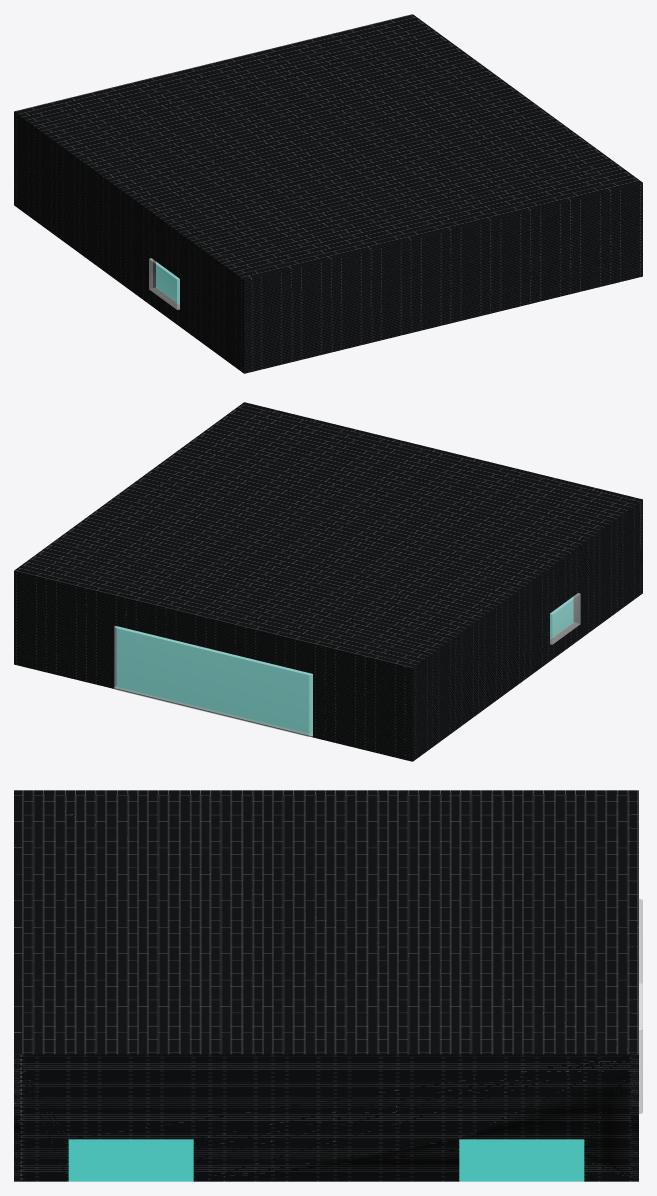
Rendered from OfficeRoomIMPROVED.fbx.
The picture shows the model from 3 angles, top to bottom: view 1: azimuth 30°, elevation 25°; view 2: azimuth 150°, elevation 25°; view 3: azimuth 270°, elevation 25°; orthographic projection. The views are drawn at different scales.
Parts seen in each view (by area): view 1: Wall, Window.001, Floor; view 2: Wall, Window, Floor, LogoGround, Window.001; view 3: Wall, Floor, Window, LogoGround.
Boxes of the visible parts, left/top/right/bottom form: Wall: left=14, top=14, right=642, bottom=373; Window.001: left=149, top=258, right=179, bottom=309; Floor: left=156, top=262, right=179, bottom=304; Wall: left=14, top=402, right=642, bottom=761; Window: left=114, top=625, right=312, bottom=736; Floor: left=114, top=597, right=573, bottom=736; LogoGround: left=116, top=627, right=312, bottom=680; Window.001: left=550, top=593, right=580, bottom=644; Wall: left=14, top=790, right=638, bottom=1181; Floor: left=68, top=1139, right=584, bottom=1181; Window: left=639, top=899, right=642, bottom=1113; LogoGround: left=170, top=1139, right=482, bottom=1155.
Bounding box in the file's own units: 40.25 × 9 × 40.25.
